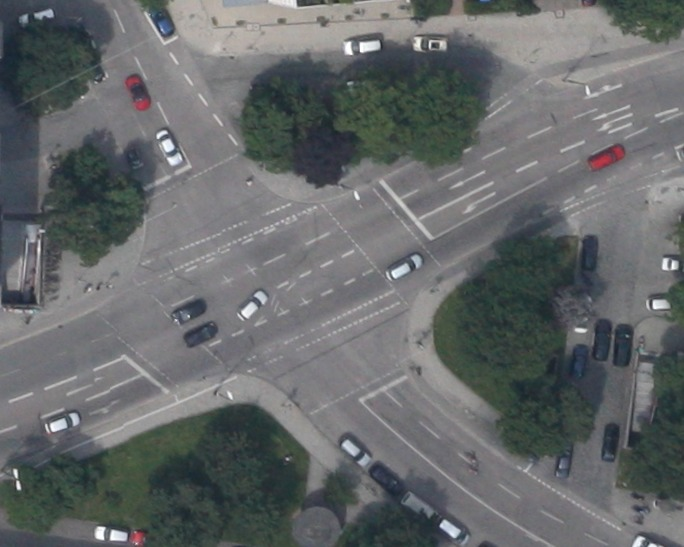car: (397, 488, 437, 526), (366, 461, 405, 498), (152, 125, 184, 168), (431, 513, 470, 547), (382, 251, 424, 282), (234, 287, 268, 323), (586, 142, 626, 172), (123, 73, 151, 111), (338, 436, 371, 468), (182, 320, 217, 348), (147, 3, 175, 38), (42, 410, 81, 435), (17, 4, 57, 28), (611, 323, 633, 366), (169, 298, 204, 325), (591, 318, 611, 360), (599, 422, 620, 462), (554, 439, 573, 477), (342, 38, 381, 56), (93, 524, 128, 544), (579, 234, 598, 270), (568, 343, 588, 377), (411, 35, 447, 53), (124, 146, 144, 170)
